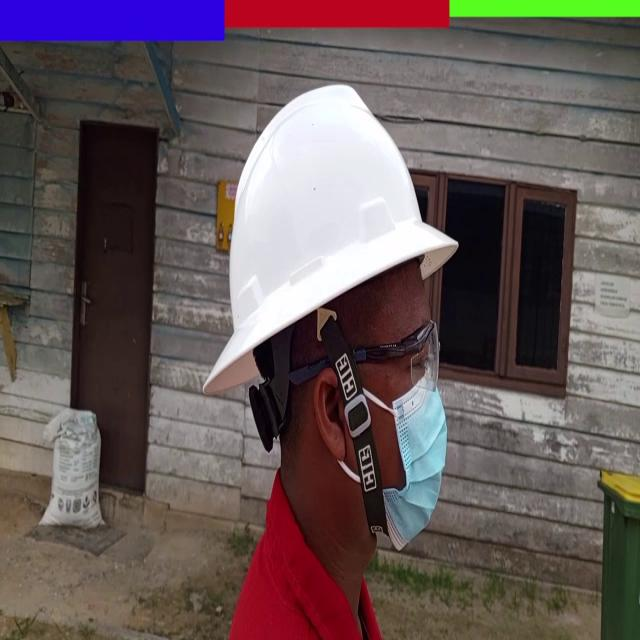Hardhat: (202, 78, 461, 397)
Mask: (383, 376, 450, 548)
Strapped: (315, 303, 390, 544)
